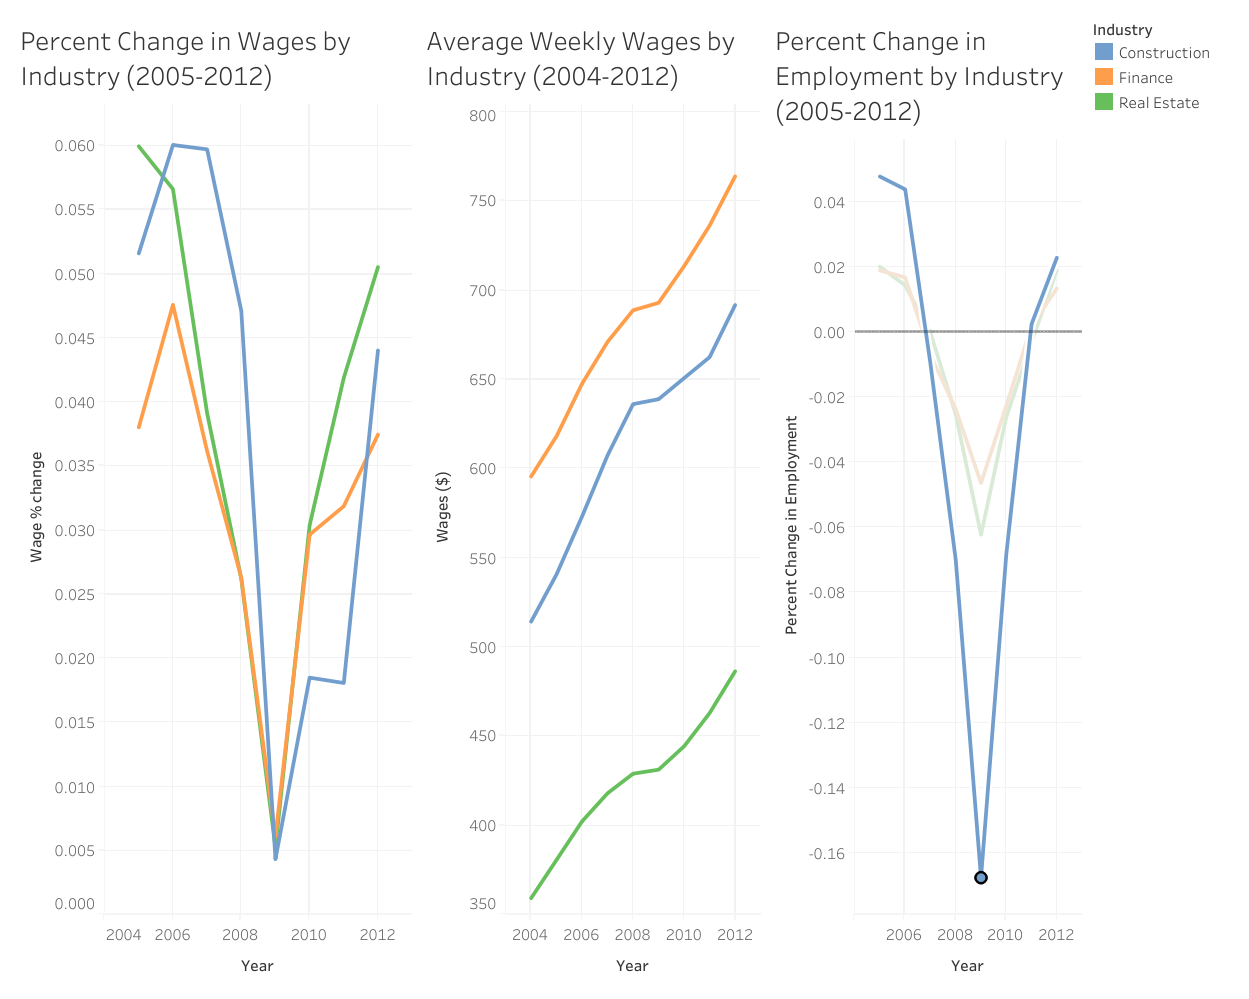

The dashboard page shown, as its layout file describes it:
{"tool":"tableau","page":{"name":"Dashboard 1","canvas":[1000,800],"ordinal":0},"visuals":[{"type":"worksheet","title":"Percent Change in Wages by Industry (2005-2012)","mark":"Line","cols":["year"],"box":[8,8,325,784]},{"type":"worksheet","title":"Average Weekly Wages by Industry (2004-2012)","mark":"Line","cols":["year"],"box":[333,8,279,784]},{"type":"worksheet","title":"Percent Change in Employment by Industry (2005-2012)","mark":"Line","cols":["year"],"box":[612,8,257,784]},{"type":"legend","title":"Percent Change in Employment by Industry (2005-2012)","param":"[federated.1m9489w0h5a5dk0zrn01l0uomdme].[:Measure Names]","box":[869,8,123,87]}]}

Visuals, with their boxes in screenshot pixels (x1, y1, x2, y2), scaled from the page's 1000x800 canvas onto the 1249x999 screenshot:
"Percent Change in Wages by Industry (2005-2012)" worksheet (Line marks): BBox(10, 10, 416, 989)
"Average Weekly Wages by Industry (2004-2012)" worksheet (Line marks): BBox(416, 10, 764, 989)
"Percent Change in Employment by Industry (2005-2012)" worksheet (Line marks): BBox(764, 10, 1085, 989)
"Percent Change in Employment by Industry (2005-2012)" legend: BBox(1085, 10, 1239, 119)
